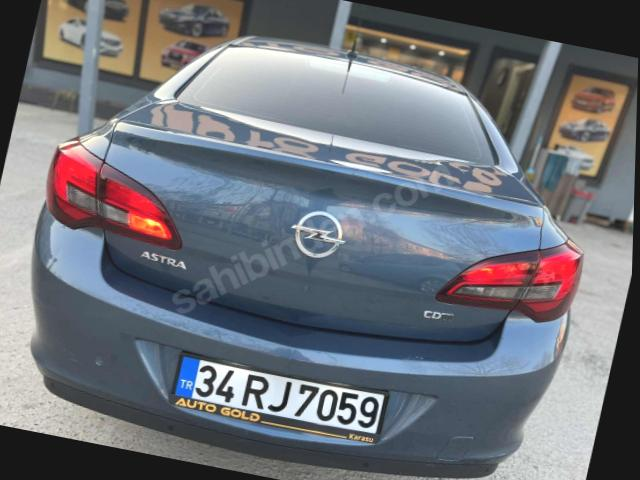plaka: (172, 354, 387, 435)
